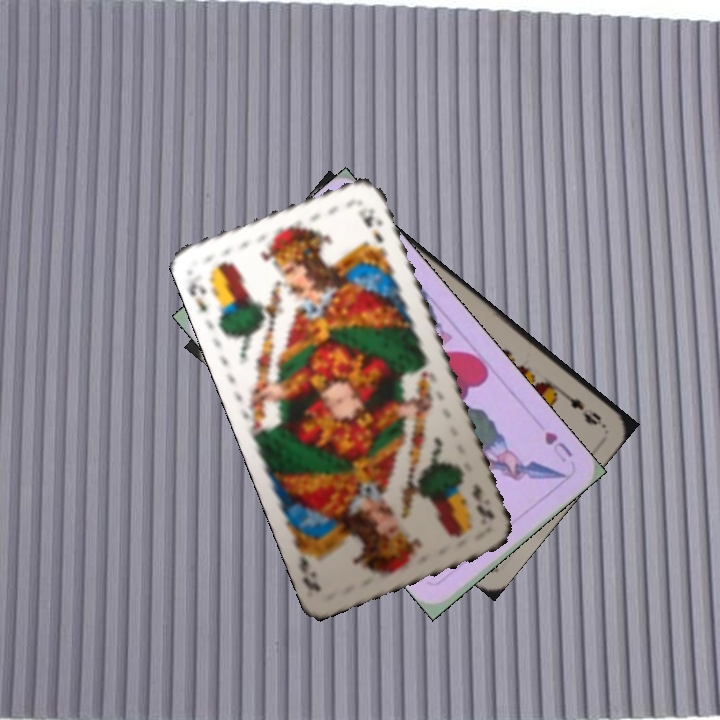E9: (552, 385, 605, 428)
EK: (468, 479, 497, 528), (184, 278, 210, 314)
HU: (540, 427, 575, 466)
